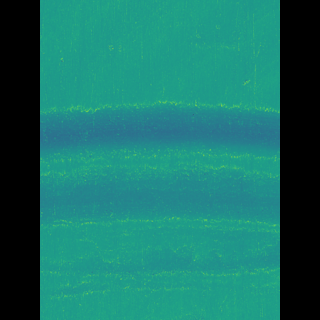Loch: (69, 99, 249, 298)
